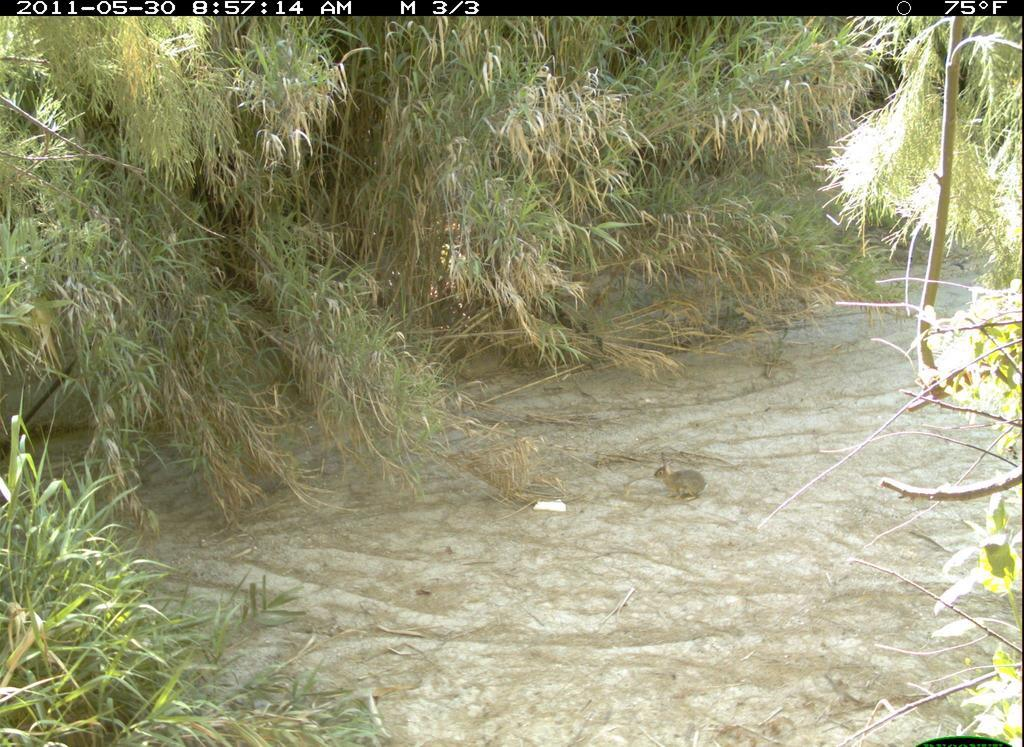rabbit: (648, 446, 717, 504)
